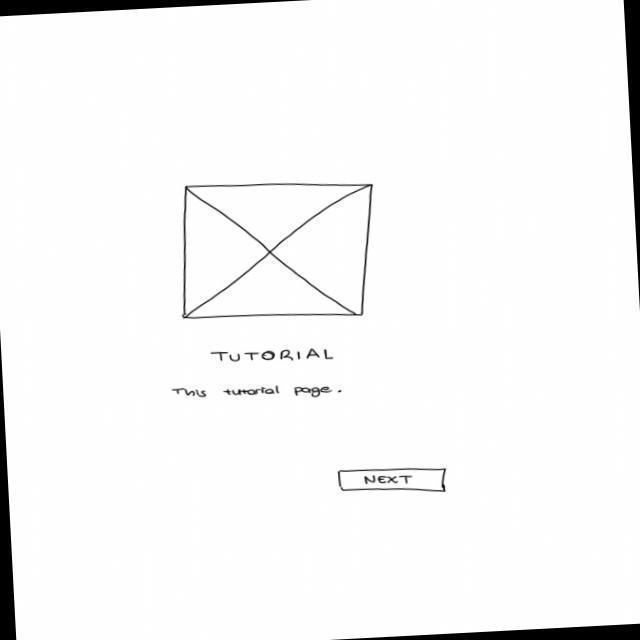button: (338, 464, 451, 498)
image: (175, 175, 382, 328)
label: (171, 380, 345, 407), (210, 344, 338, 369)
